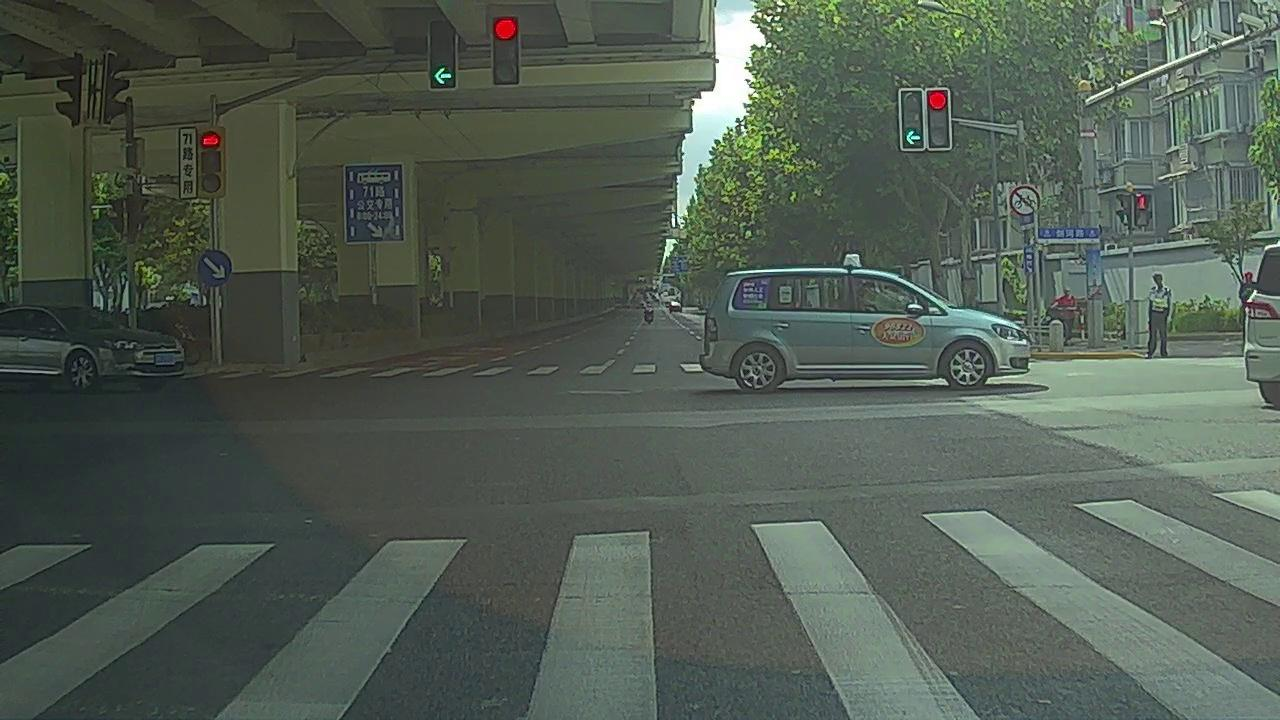traffic_light: (490, 14, 518, 84), (925, 87, 951, 150), (432, 21, 456, 88), (900, 89, 924, 149)
